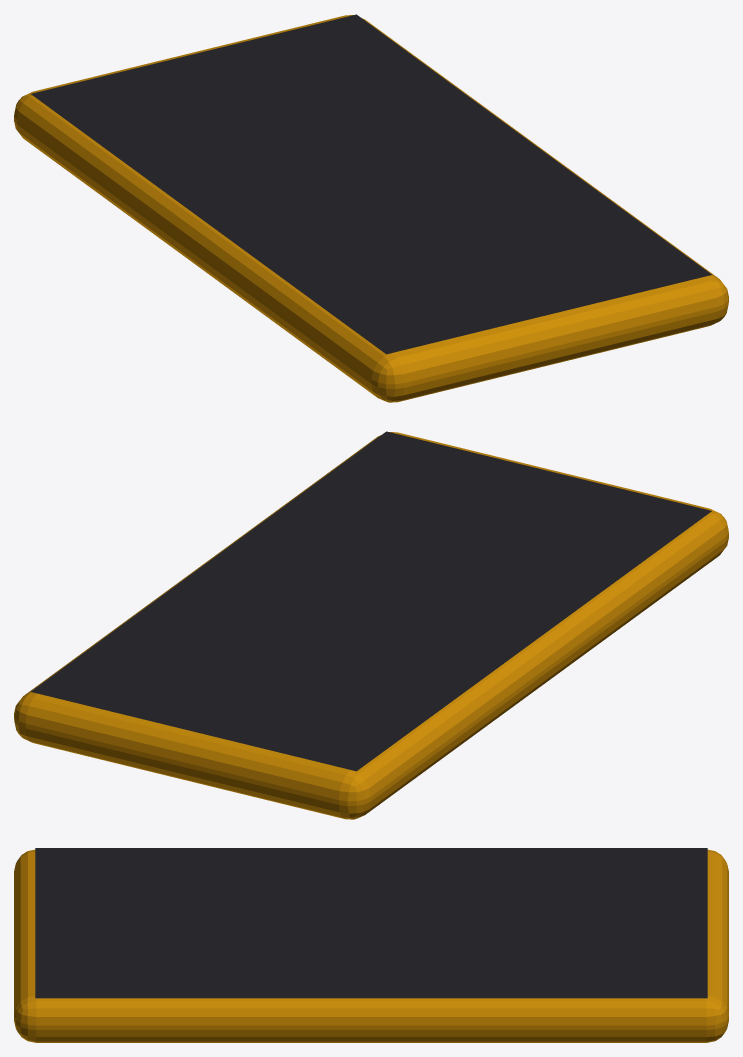
File: Phone_501.glb
3 renders of one model, top to bottom at view 1: azimuth 30°, elevation 25°; view 2: azimuth 150°, elevation 25°; view 3: azimuth 270°, elevation 25°, orthographic. The views are drawn at different scales.
Parts seen in each view (by area): view 1: Phone_Screen, Phone_Body; view 2: Phone_Screen, Phone_Body; view 3: Phone_Screen, Phone_Body.
Part boxes in pixels (bbox=[...]): Phone_Screen: bbox=[31, 14, 711, 354]; Phone_Body: bbox=[14, 15, 728, 402]; Phone_Screen: bbox=[31, 431, 711, 771]; Phone_Body: bbox=[14, 432, 728, 819]; Phone_Screen: bbox=[35, 848, 707, 998]; Phone_Body: bbox=[14, 849, 728, 1042].
Size of the model in its own units: 0.0768 by 0.01 by 0.1421.
